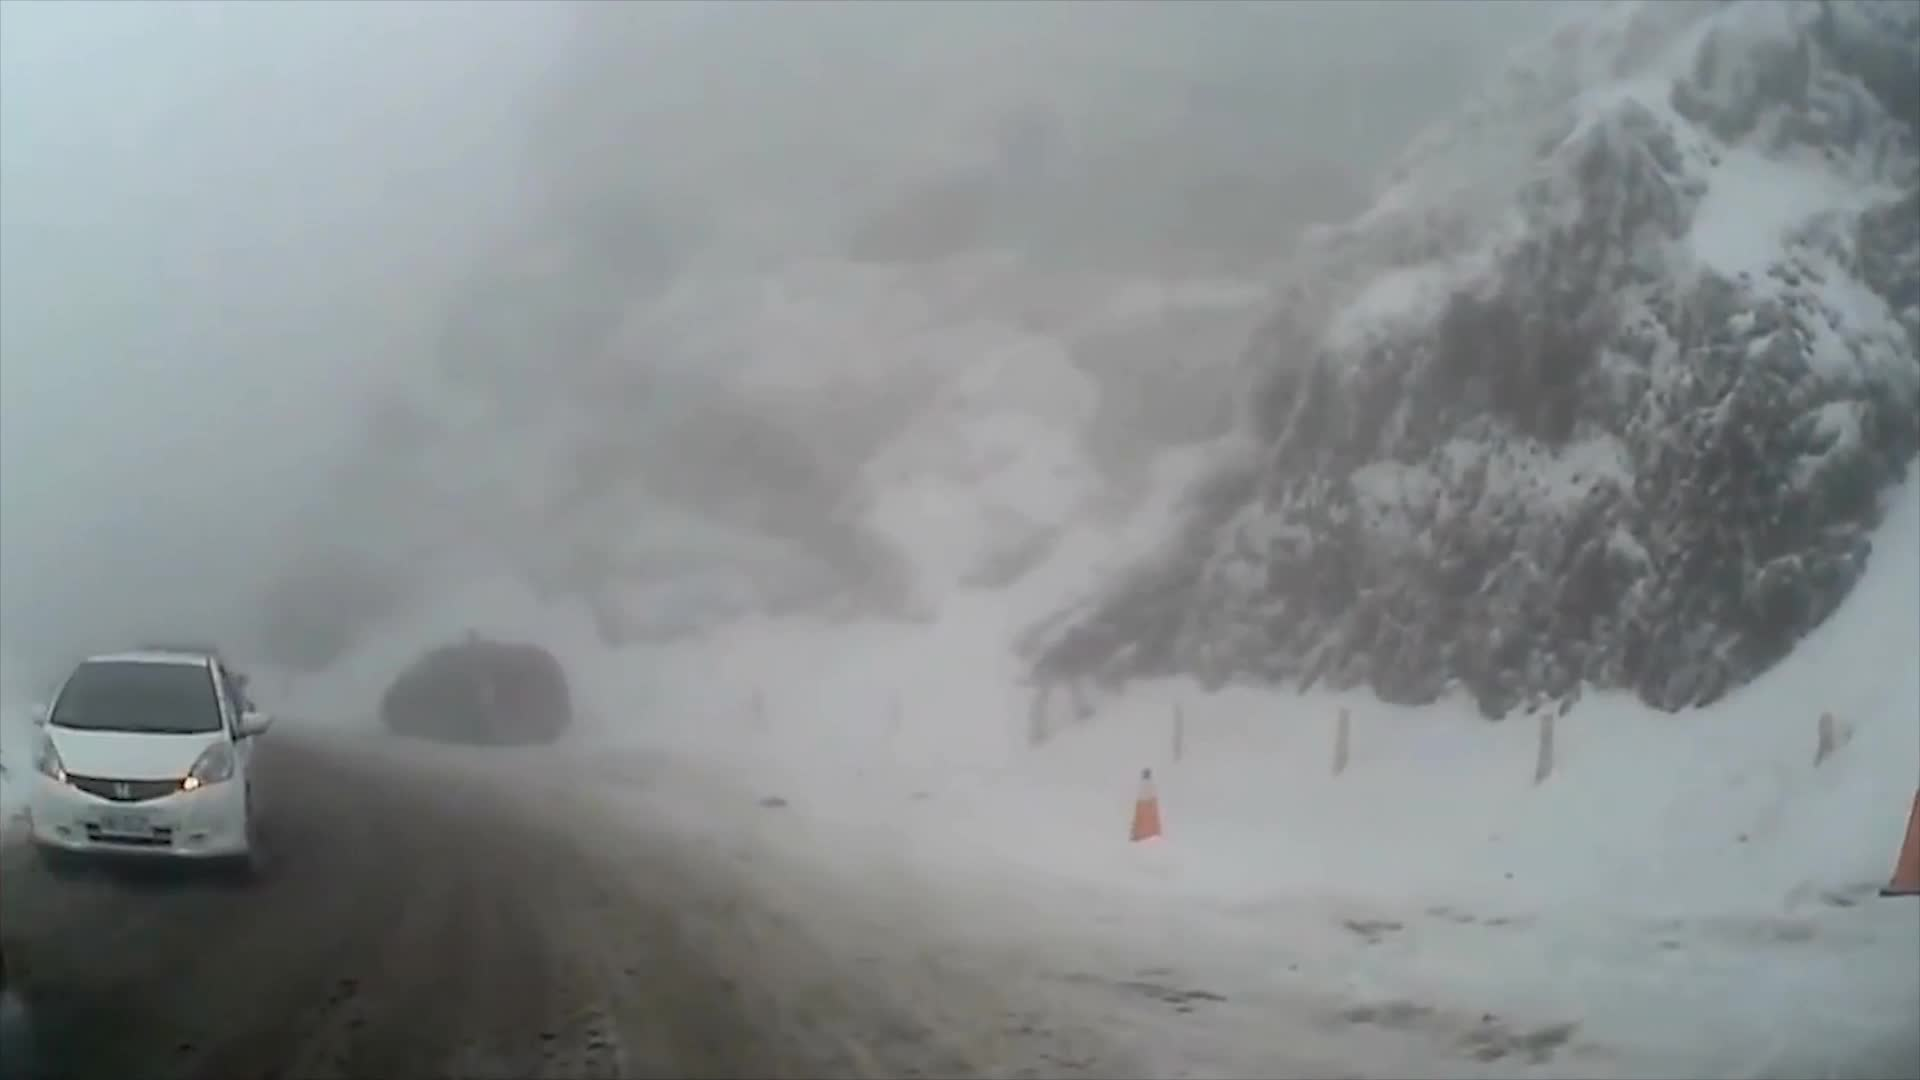vehicle: (21, 647, 266, 882), (386, 647, 576, 753)
